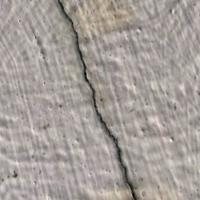crack: (52, 0, 151, 199)
